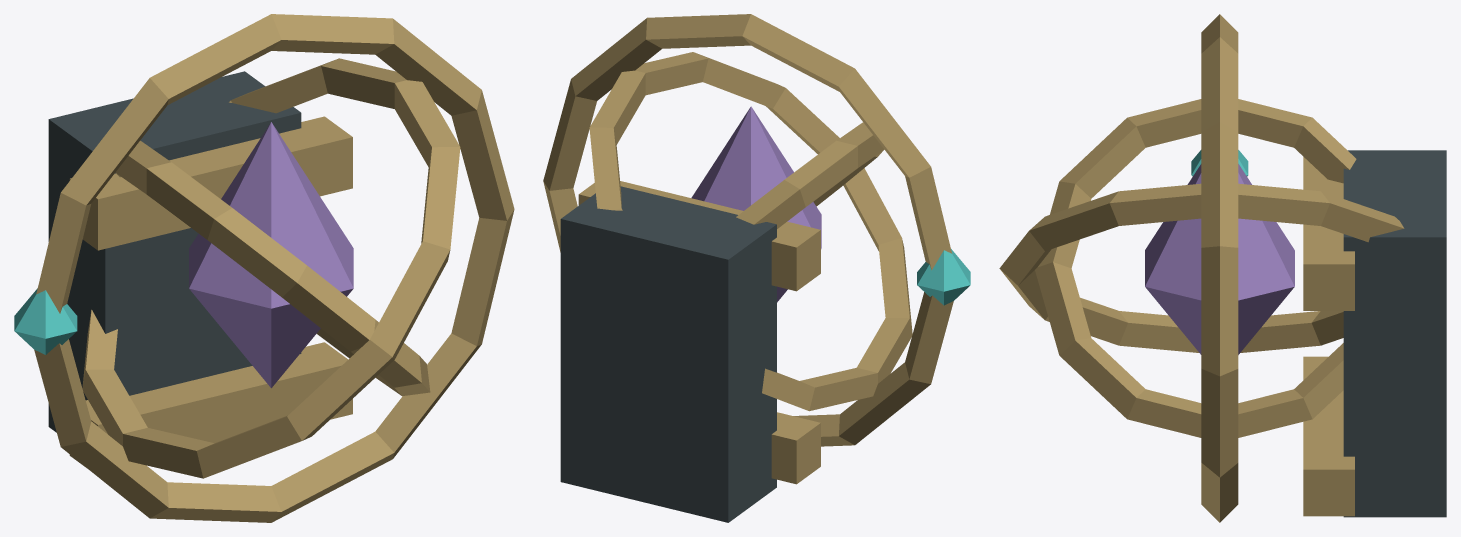
File: Equip_OrbitSeal.fbx
3 views of the same model, side by side, from view 1: azimuth 30°, elevation 25°; view 2: azimuth 150°, elevation 25°; view 3: azimuth 270°, elevation 25° (orthographic). The views are drawn at different scales.
Visible parts, largest first — view 1: Equip_OrbitSeal; view 2: Equip_OrbitSeal; view 3: Equip_OrbitSeal.
Boxes of the visible parts, x1,y1,x2,y2 form: Equip_OrbitSeal: [14, 14, 514, 522]; Equip_OrbitSeal: [543, 14, 970, 522]; Equip_OrbitSeal: [999, 14, 1446, 522].
Bounding box in the file's own units: 0.255 × 0.248 × 0.217.
